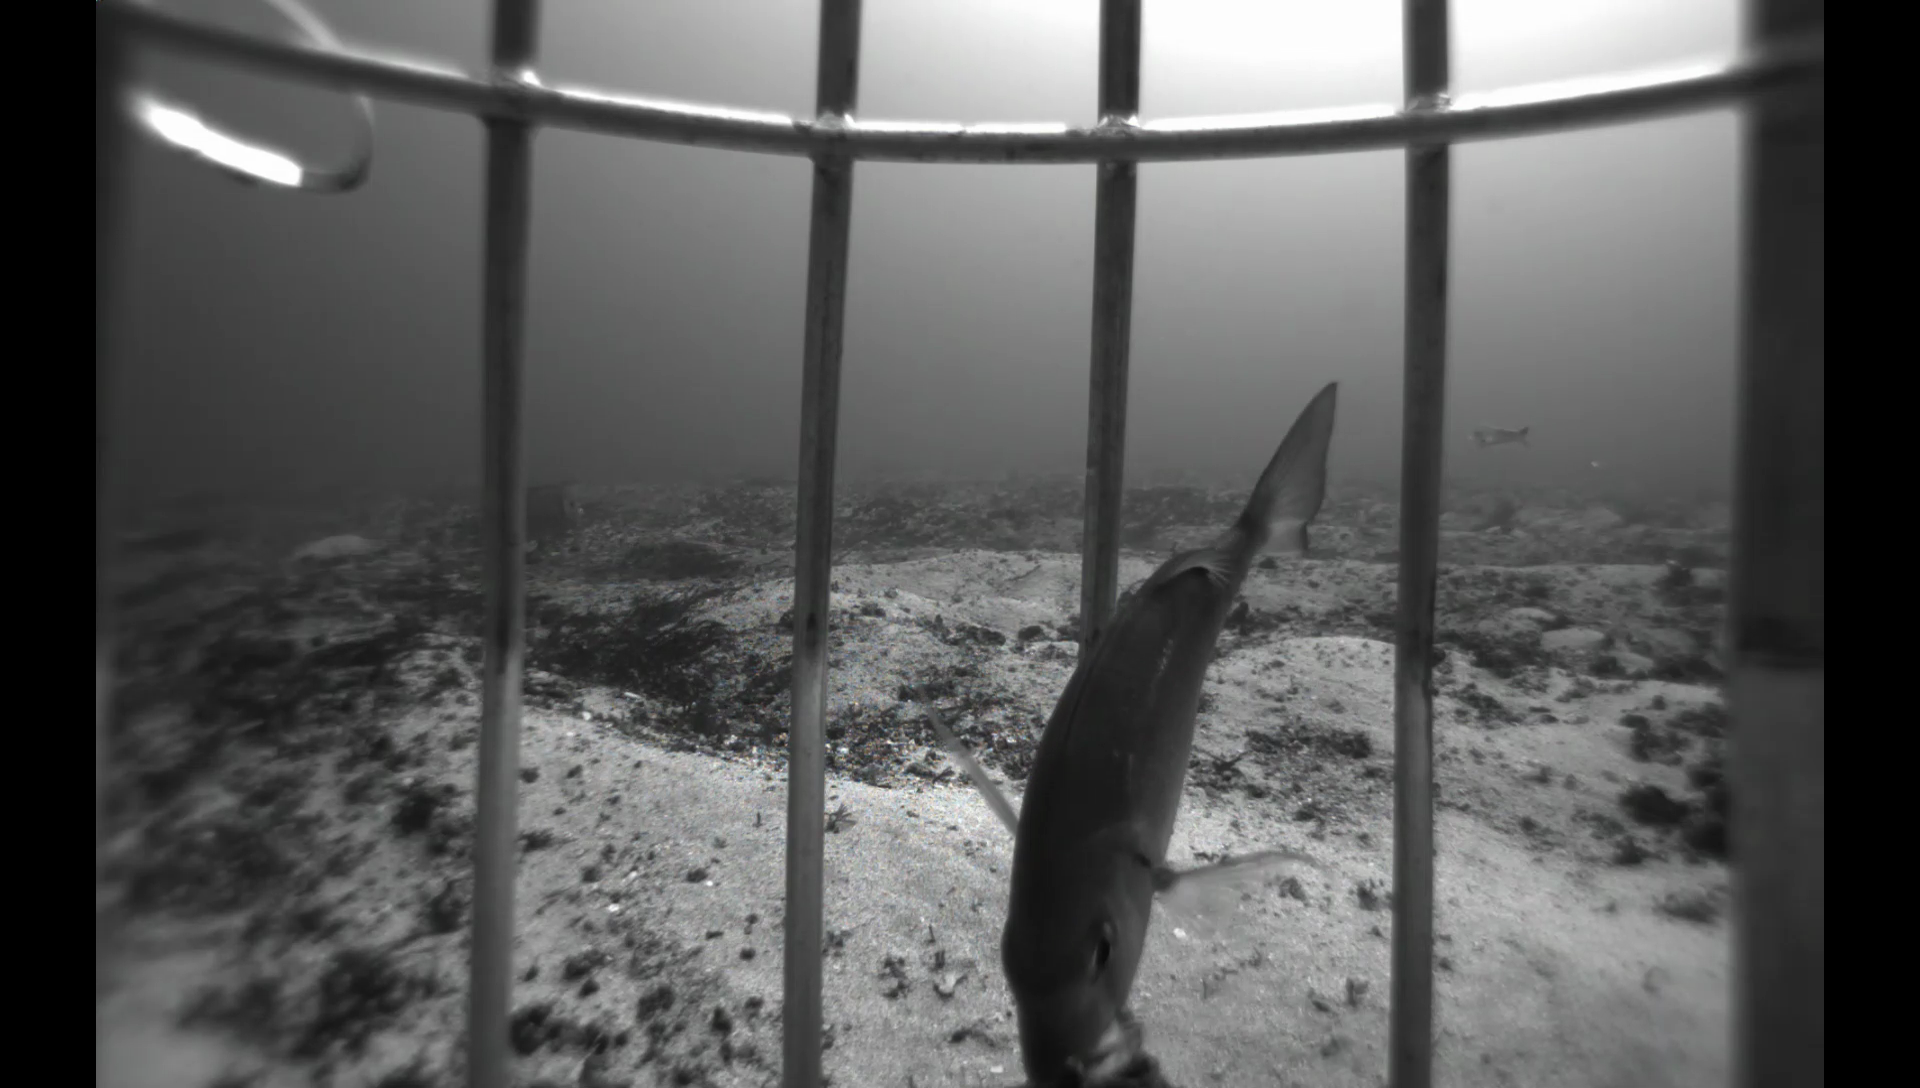MALACANTHUSPLUMIERI-170070301: (1462, 419, 1534, 448)
PAGRUSPAGRUS-170212302: (893, 375, 1354, 1084)
POMACANTHUSARCUATUS-170290201: (520, 481, 591, 547)
